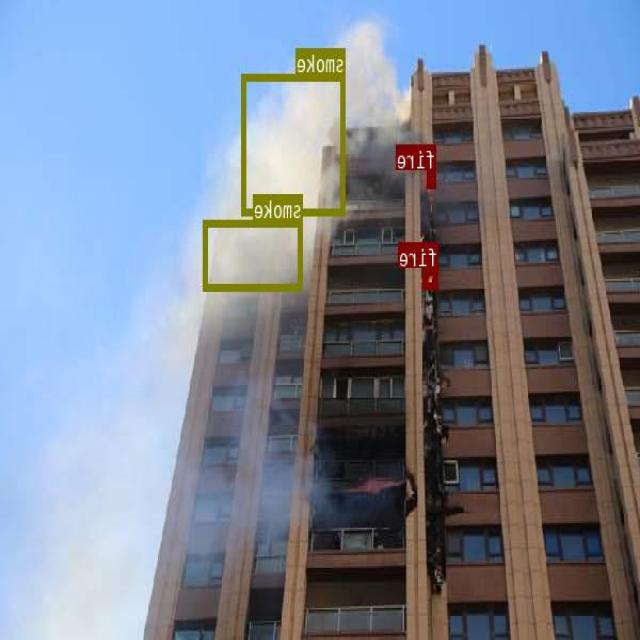fire: (424, 267, 439, 289), (428, 168, 437, 186)
smoke: (242, 73, 346, 214), (204, 220, 303, 290)
